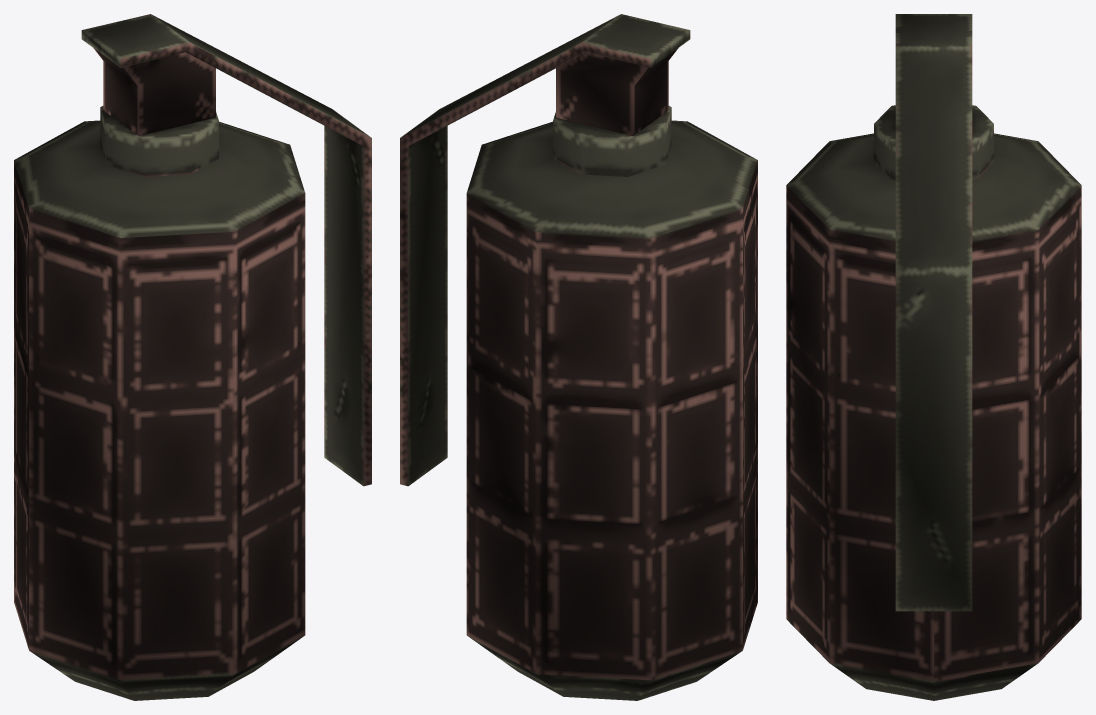
Rendered from P_Grenade.gltf.
3 renders of one model, left to right at view 1: azimuth 30°, elevation 25°; view 2: azimuth 150°, elevation 25°; view 3: azimuth 270°, elevation 25°, orthographic.
Parts seen in each view (by area): view 1: grenade_low; view 2: grenade_low; view 3: grenade_low.
Boxes of the visible parts, x1,y1,x2,y2 form: grenade_low: [14, 14, 371, 700]; grenade_low: [400, 14, 757, 700]; grenade_low: [786, 14, 1081, 700].
Bounding box in the file's own units: 0.096 × 0.179 × 0.0775.
Materials: 1 (1 with a texture image).
